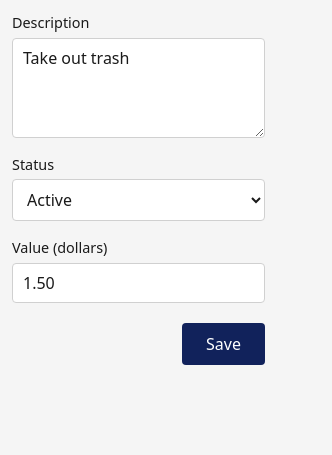
Test: ChoreDetailForm › clears the saved-successfully message after editing a field again
Click the button "Save" at (224, 344), box [182,323,265,365]
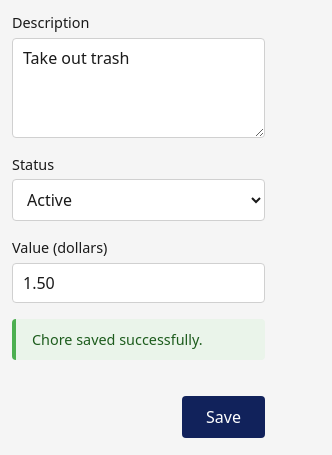
Check: the message reads "Chore saved successfully.", box [32,330,203,349]
Type " again" into the text box labelled "Description" at (138, 88), box [12,38,265,138]
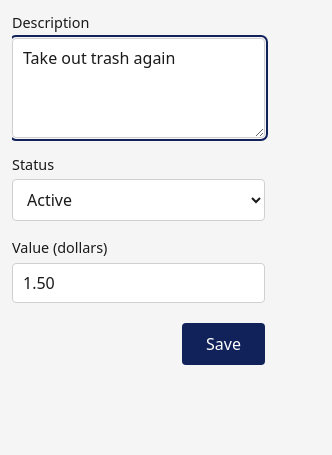
Check: the message "Chore saved successfully." is gone
